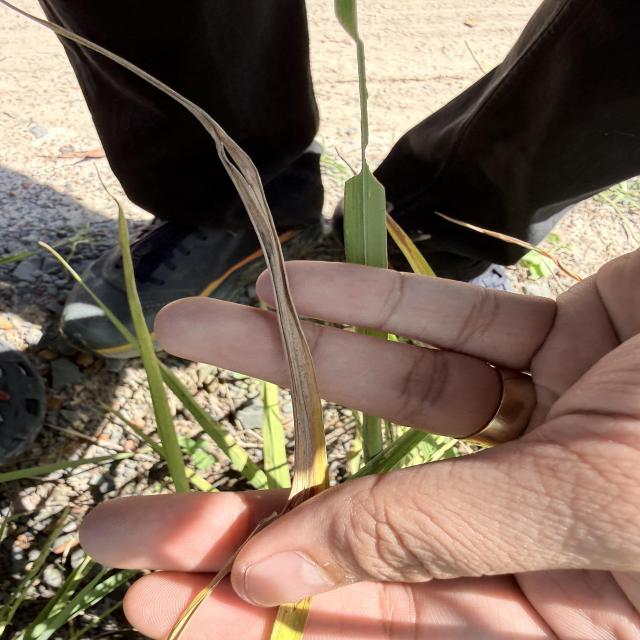Chay bia la: (0, 0, 317, 516)
